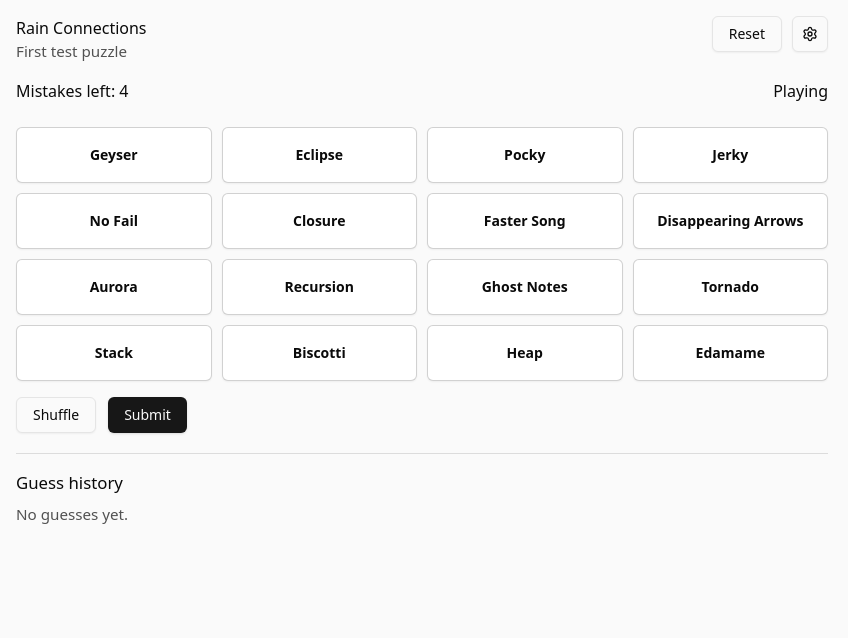
it: App › loads the puzzle and allows solving a group
Expected: the element with test id "tile-grid" is shown, [16, 127, 828, 381]
Select the snack group
Click the button with test id "tile-i1". click: (730, 353)
box: [632, 325, 828, 381]
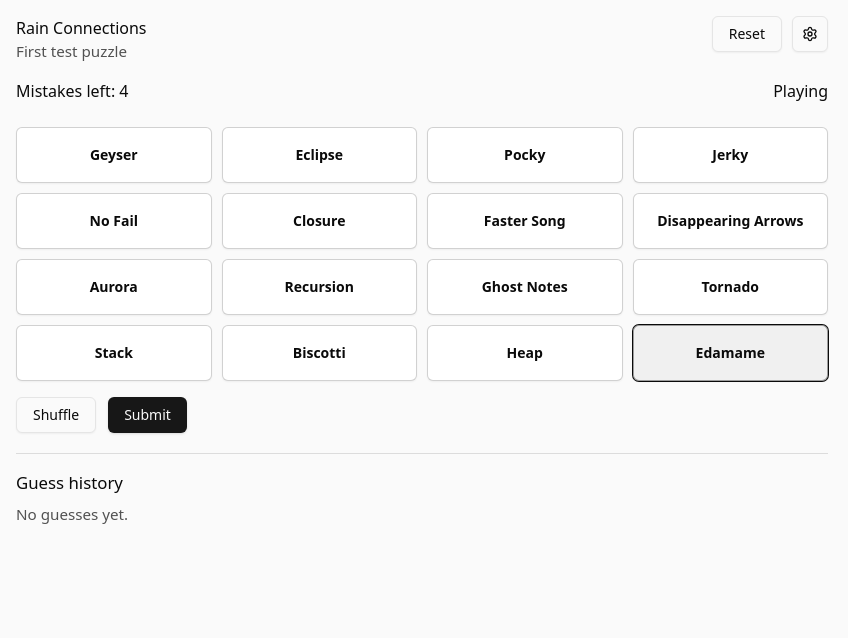
Click the button with test id "tile-i2". click: (319, 353)
box: [222, 325, 417, 381]
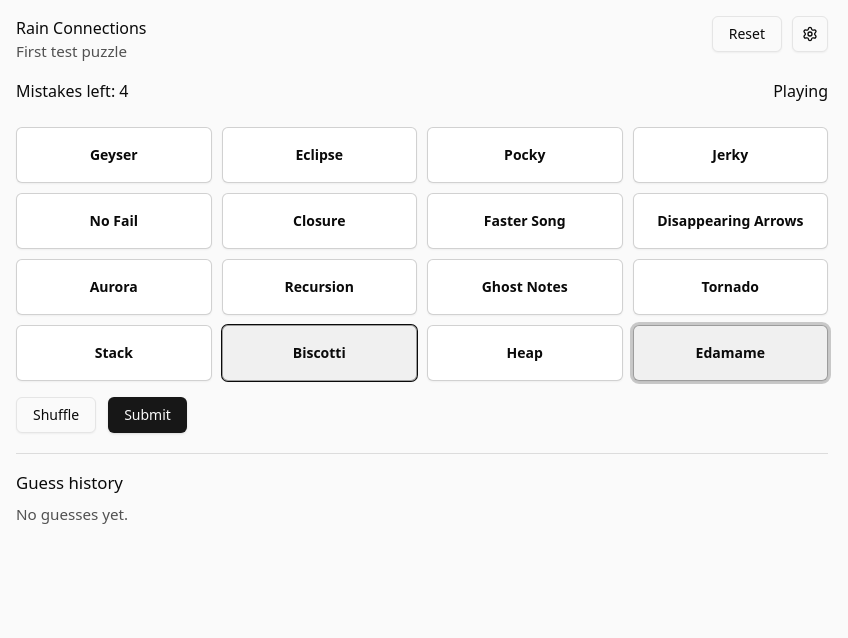
Click the button with test id "tile-i3". click: (730, 155)
box: [632, 127, 828, 183]
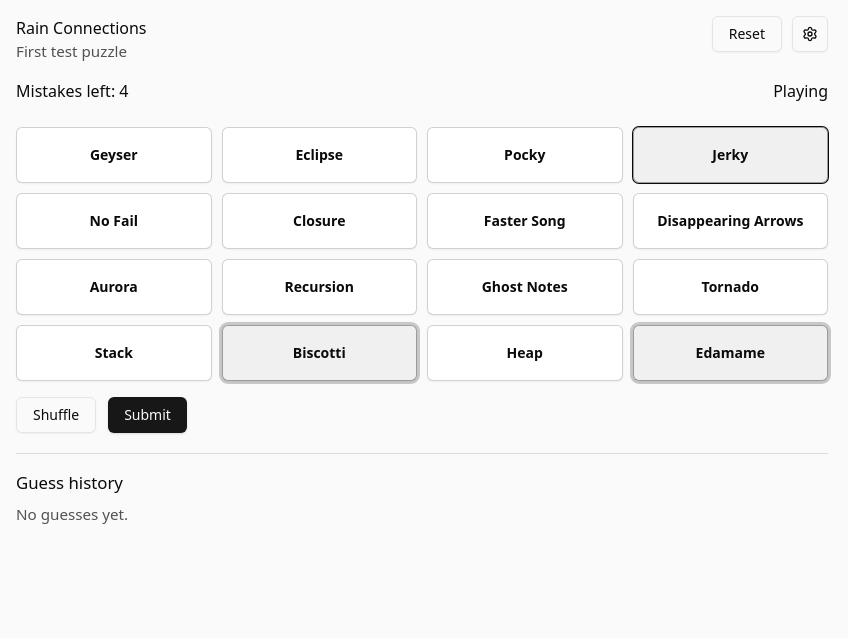
Click the button with test id "tile-i4". click: (525, 155)
box: [427, 127, 622, 183]
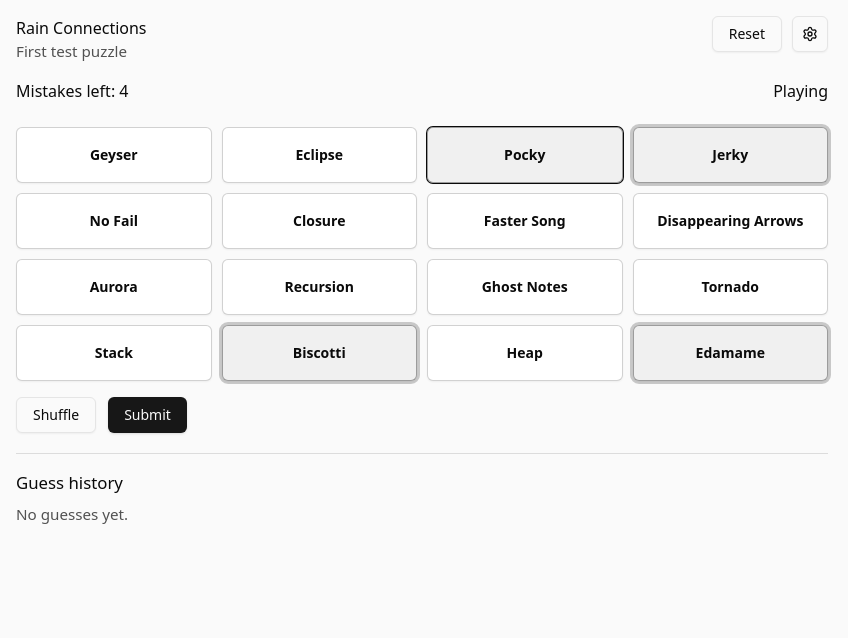
Click the button with test id "submit-guess-button". click: (147, 415)
box: [108, 397, 187, 433]
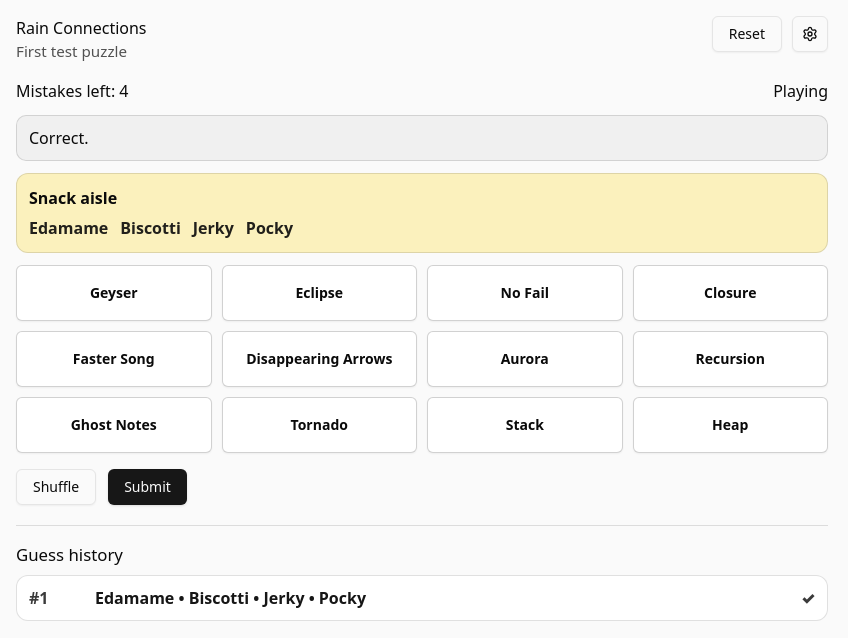
Result: the element with test id "found-group-g-yellow" is shown at [16, 173, 828, 253]
